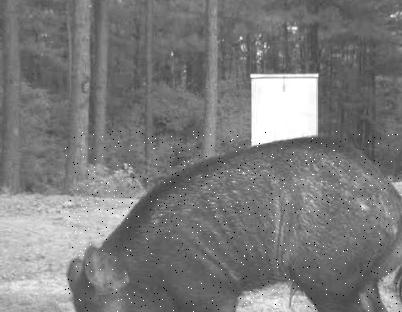Hog: (65, 131, 402, 312)
